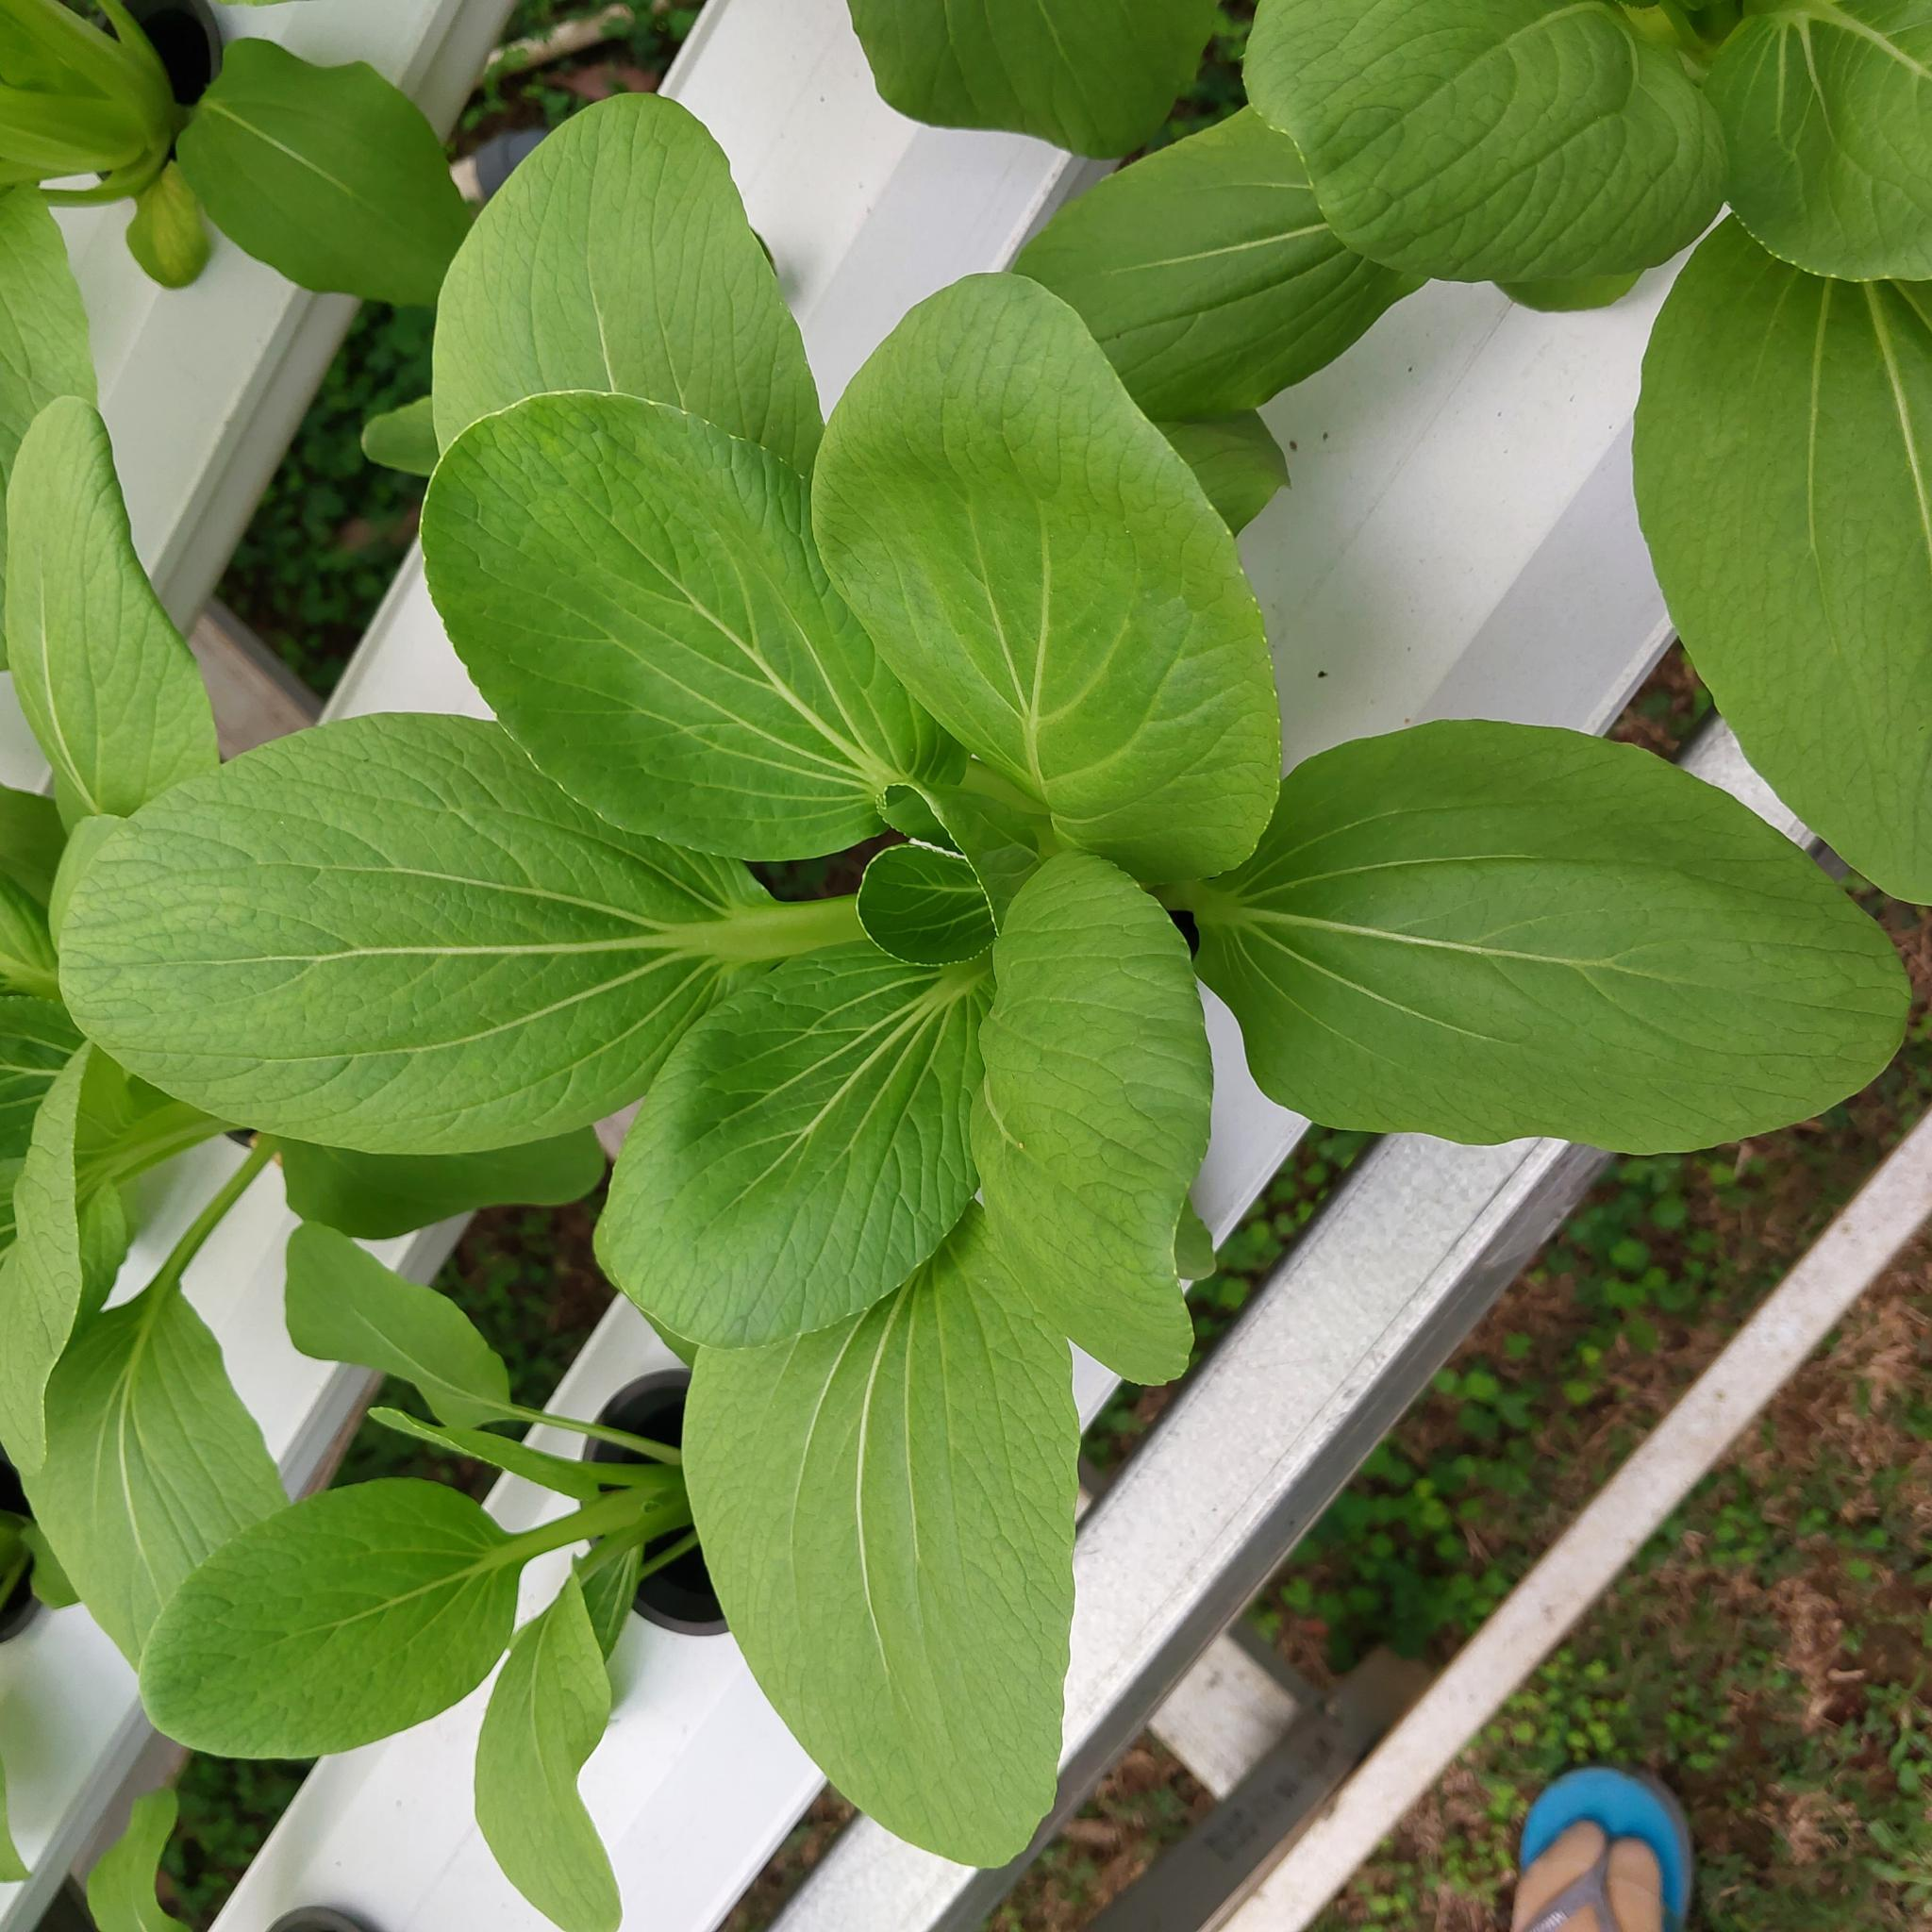Healthy-Pechay: (0, 0, 1729, 1838), (423, 333, 971, 897), (57, 717, 817, 1088), (1644, 214, 1930, 902), (428, 87, 832, 499), (11, 1120, 295, 1697), (1244, 0, 1732, 297), (145, 1476, 582, 1764), (1010, 113, 1375, 451), (2, 389, 221, 837), (226, 295, 441, 683), (175, 39, 474, 315), (1700, 0, 1932, 280), (0, 1016, 117, 1467), (478, 1571, 617, 1930), (932, 2, 1212, 159), (419, 1208, 596, 1435), (0, 173, 101, 538), (124, 1145, 274, 1343), (2, 770, 73, 950)
